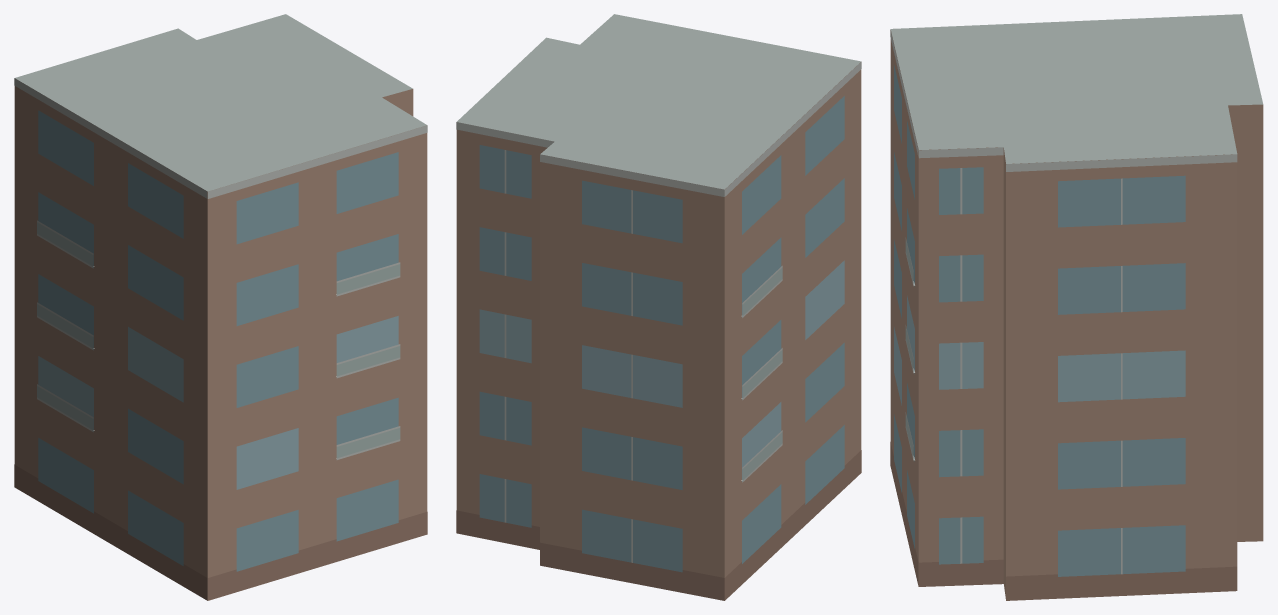
File: survey-upis-32916503.glb
3 renders of one model, left to right at view 1: azimuth 30°, elevation 25°; view 2: azimuth 150°, elevation 25°; view 3: azimuth 270°, elevation 25°, orthographic. The views are drawn at different scales.
Parts seen in each view (by area): view 1: survey-upis-32916503.tmp; view 2: survey-upis-32916503.tmp; view 3: survey-upis-32916503.tmp.
Boxes of the visible parts, box(x1,y1,x2,y2) form: survey-upis-32916503.tmp: box(14, 14, 427, 600); survey-upis-32916503.tmp: box(456, 14, 861, 600); survey-upis-32916503.tmp: box(890, 14, 1263, 600).
Bounding box in the file's own units: 9.73 × 13.2 × 10.22.
